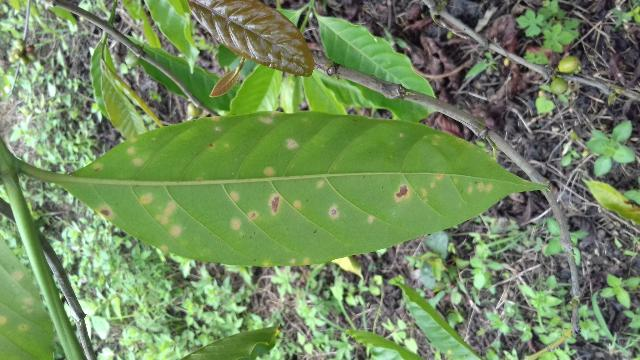rust_level_1: (22, 106, 559, 267)
